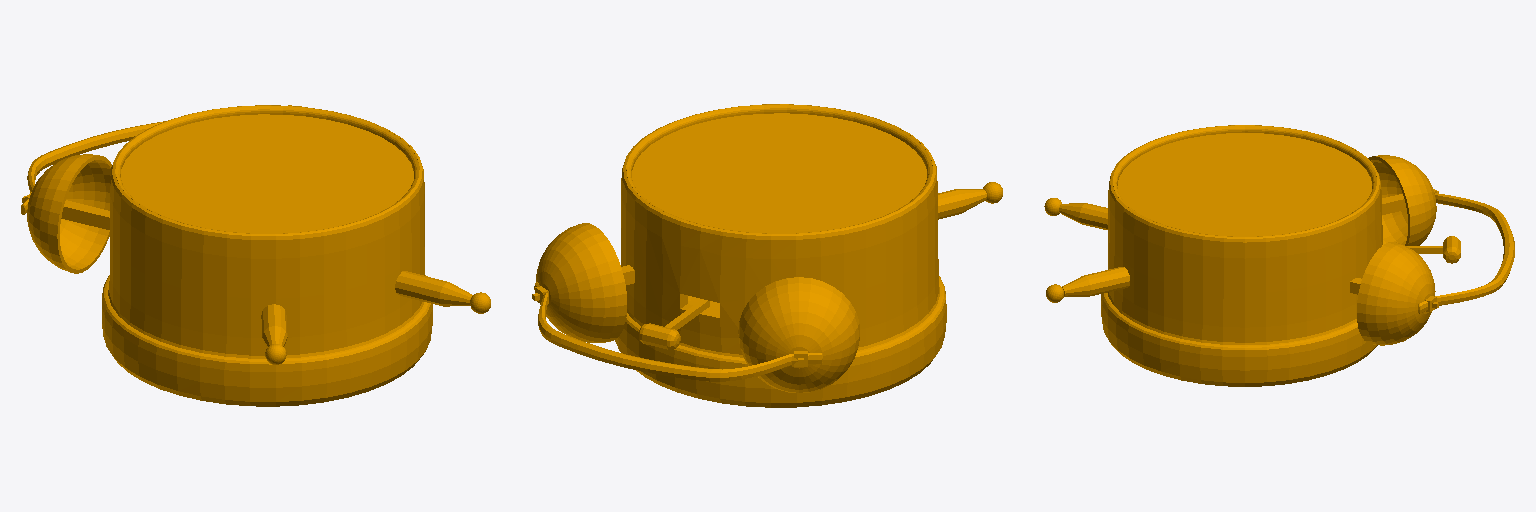
The robot description file, URDF, robot "clock":
<?xml version="1.0"?>
<robot name="clock">
  <link name="clock">
    <visual>
      <origin xyz="0.0 0.0 0.0"/>
      <geometry>
        <mesh filename="clock1.obj" scale="0.05 0.05 0.05"/>
      </geometry>
    </visual>
    <collision>
      <origin xyz="0.0 0.0 0.0"/>
      <geometry>
        <mesh filename="clock1.obj" scale="0.05 0.05 0.05"/>
      </geometry>
    </collision>
    <inertial>
      <mass value="0.6"/>
      <inertia ixx="0.0001" ixy="0.0" ixz="0.0" iyy="0.0001" iyz="0.0" izz="0.0001"/>
    </inertial>
  </link>
</robot>

--- What the picture shows (computed from the rendered views, not written in the file) ---
The picture shows the robot from 3 angles, left to right: view 1: azimuth 30°, elevation 25°; view 2: azimuth 150°, elevation 25°; view 3: azimuth 270°, elevation 25°; orthographic projection.
Robot: clock — 1 links, 0 joints (none); root link clock; default pose: all joints at 0.
Visible links, largest first — view 1: clock; view 2: clock; view 3: clock.
Boxes of the visible links, <box> form: clock: <box>21,105,490,406</box>; clock: <box>532,104,1002,407</box>; clock: <box>1044,125,1514,386</box>.
Bounding box of the posed robot: 0.1102 × 0.1689 × 0.0602 m (x, y, z).
Meshes: 1 distinct files referenced, 1 mesh visuals loaded (1 OBJ).